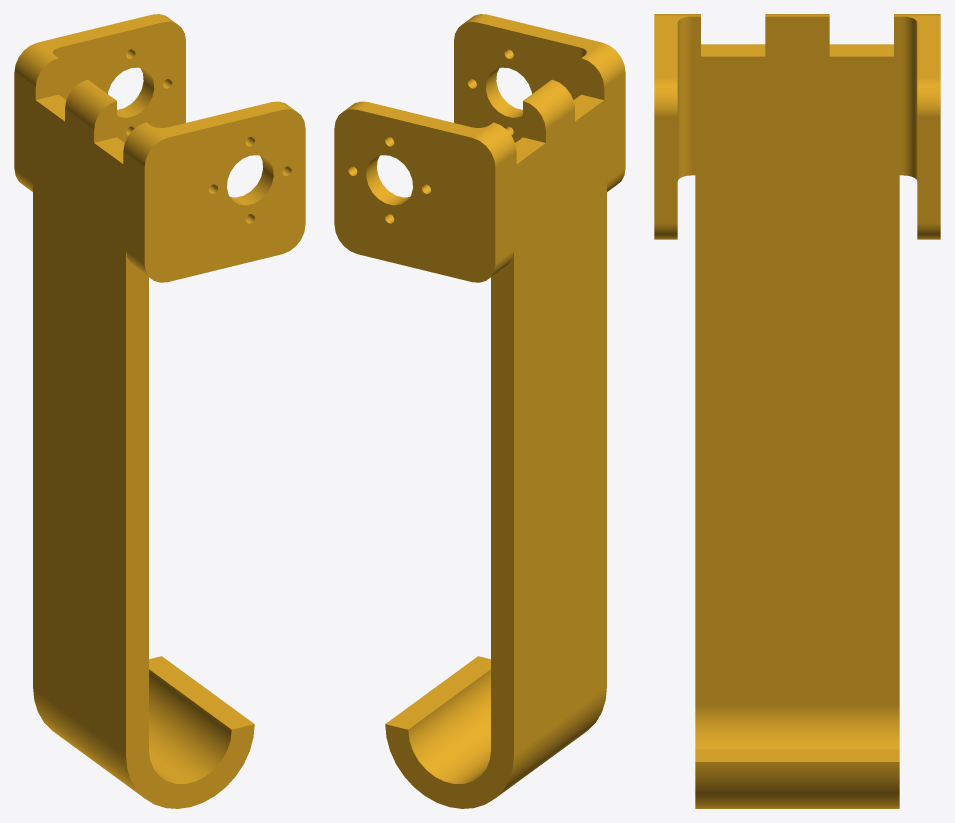
The model's file is right_forearm.dae.
3 views of the same model, side by side, from view 1: azimuth 30°, elevation 25°; view 2: azimuth 150°, elevation 25°; view 3: azimuth 270°, elevation 25° (orthographic). The views are drawn at different scales.
Visible parts, largest first — view 1: Body1_Plastic_-_Matte_(Yellow); view 2: Body1_Plastic_-_Matte_(Yellow); view 3: Body1_Plastic_-_Matte_(Yellow).
Boxes of the visible parts, left/top/right/bottom form: Body1_Plastic_-_Matte_(Yellow): left=14, top=14, right=305, bottom=808; Body1_Plastic_-_Matte_(Yellow): left=334, top=14, right=625, bottom=808; Body1_Plastic_-_Matte_(Yellow): left=654, top=14, right=940, bottom=808.
Bounding box in the file's own units: 0.035 × 0.049 × 0.144.
